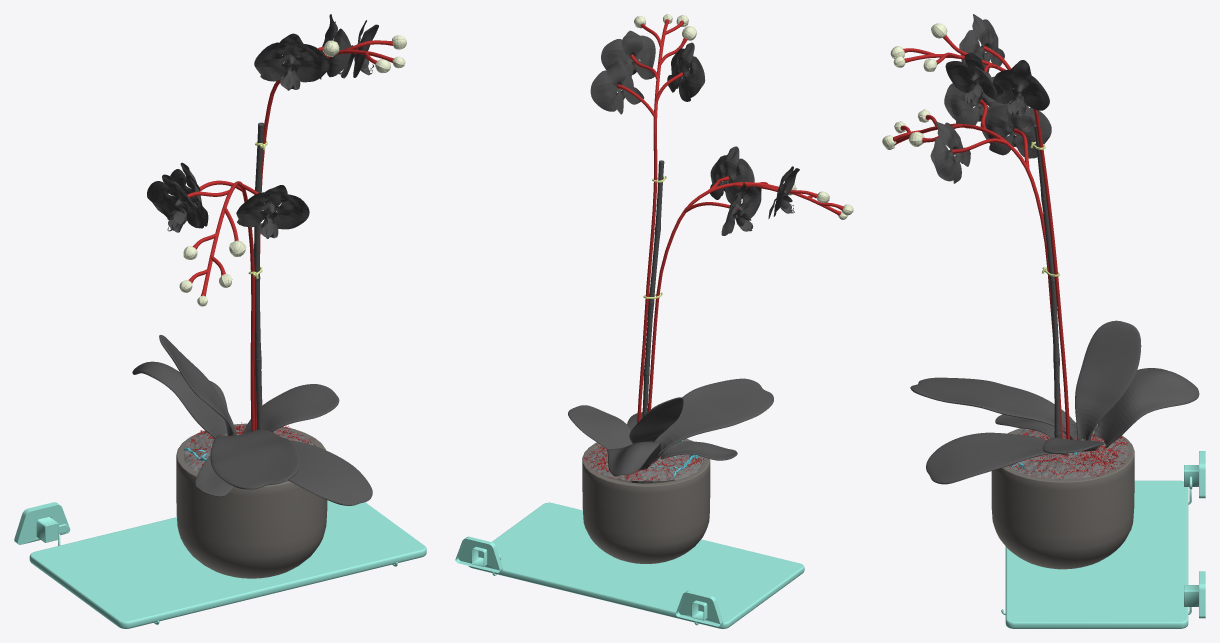
The model's file is Flower.fbx.
The picture shows the model from 3 angles, left to right: view 1: azimuth 30°, elevation 25°; view 2: azimuth 150°, elevation 25°; view 3: azimuth 270°, elevation 25°; orthographic projection. The views are drawn at different scales.
Parts seen in each view (by area): view 1: Arch46_060_2, Plane026, Line001, Plane105, Line021, Line011, Sphere054, Circle001; view 2: Arch46_060_2, Line001, Plane026, Plane105, Line021, Circle001, Line011, Sphere054, 0000001; view 3: Arch46_060_2, Plane026, Line001, Plane105, Line021, Circle001, Line011, 0000001, Sphere054.
Part boxes in pixels (x1=…): Arch46_060_2: x1=14, y1=441, x2=426, y2=628; Plane026: x1=132, y1=335, x2=372, y2=505; Line001: x1=176, y1=423, x2=327, y2=578; Plane105: x1=147, y1=14, x2=378, y2=238; Line021: x1=187, y1=40, x2=393, y2=431; Line011: x1=254, y1=122, x2=264, y2=429; Sphere054: x1=179, y1=35, x2=406, y2=306; Circle001: x1=183, y1=424, x2=314, y2=472; Arch46_060_2: x1=455, y1=502, x2=804, y2=628; Line001: x1=582, y1=438, x2=710, y2=563; Plane026: x1=568, y1=378, x2=773, y2=483; Plane105: x1=590, y1=30, x2=799, y2=235; Line021: x1=617, y1=19, x2=843, y2=422; Circle001: x1=587, y1=439, x2=703, y2=481; Line011: x1=642, y1=160, x2=664, y2=417; Sphere054: x1=634, y1=14, x2=853, y2=219; 0000001: x1=584, y1=440, x2=702, y2=481; Arch46_060_2: x1=1001, y1=451, x2=1205, y2=628; Plane026: x1=910, y1=320, x2=1199, y2=484; Line001: x1=991, y1=426, x2=1134, y2=569; Plane105: x1=930, y1=14, x2=1051, y2=183; Line021: x1=893, y1=35, x2=1070, y2=439; Circle001: x1=1008, y1=427, x2=1128, y2=479; Line011: x1=1034, y1=124, x2=1060, y2=437; 0000001: x1=1009, y1=429, x2=1130, y2=479; Sphere054: x1=882, y1=23, x2=947, y2=149.
Bounding box in the file's own units: 36.68 × 64.52 × 34.68.
